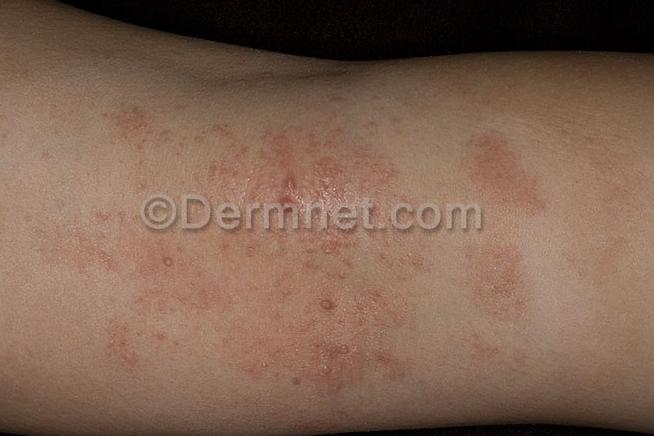eritema 1: (49, 99, 532, 402)
